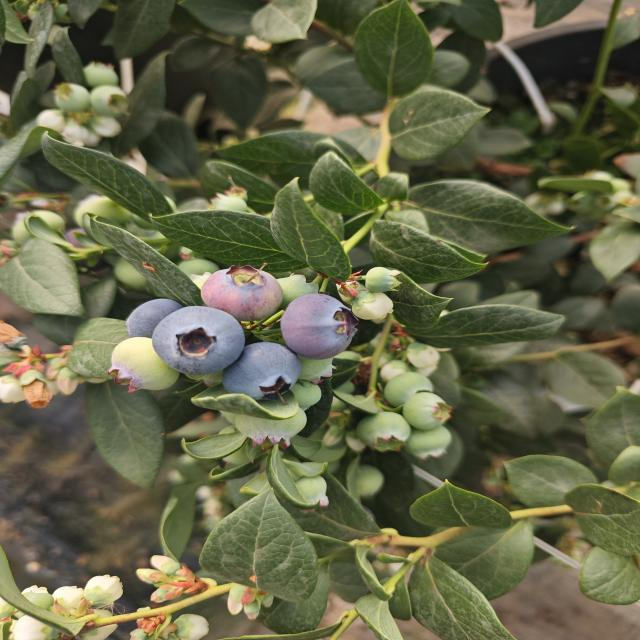ripe: (152, 305, 244, 376), (278, 291, 361, 361), (222, 340, 303, 403), (122, 297, 185, 340)
